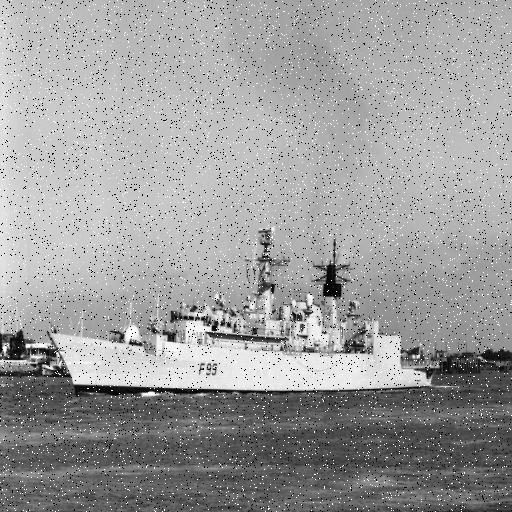Fragata: (51, 218, 440, 406)
